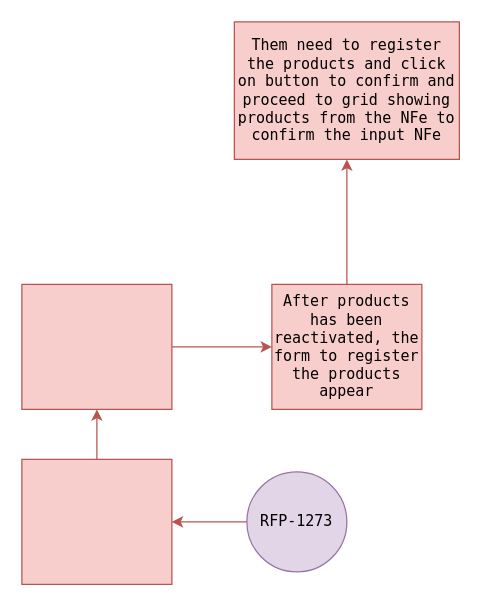
Some shapes in this 481 by 606 pixel diagram are drawn without their labels. Here are the shapes that lost their labels. From the top down, the centre of each, then its label:
the point at 96,346: Need to show the form to reactivate inactive products
the point at 96,521: When doing input NFe with inactive products is giving an error
